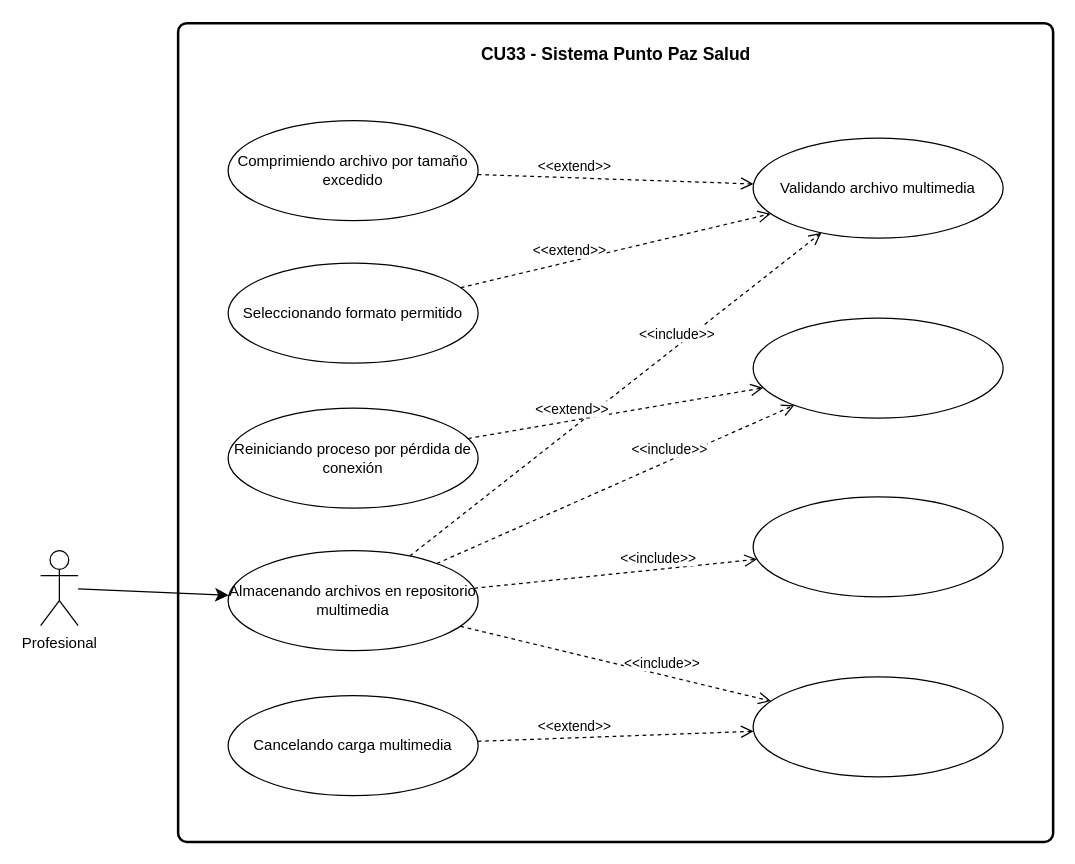
The diagram is 1075 pixels wide and 864 high, and some of its shapes have lost their labels. Here are the shapes that lost their labels. From the top down, the centre of each, then its label:
At point 877,367: "Persistiendo archivo en servidor".
At point 877,546: "Asociando archivo a Ficha Clínica Electrónica".
At point 877,726: "Confirmando carga del archivo".
